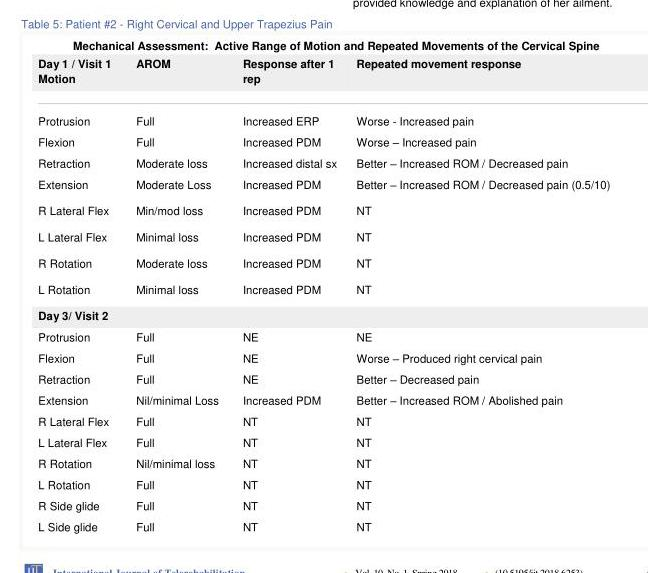table: (37, 36, 609, 533)
table column: (345, 36, 609, 533), (229, 36, 345, 533), (122, 36, 229, 533), (37, 36, 122, 533)
table column header: (37, 36, 609, 98)
table projected row header: (37, 301, 609, 325)
table row: (37, 53, 609, 98), (37, 98, 609, 130), (37, 222, 609, 249), (37, 196, 609, 222), (37, 249, 609, 275), (37, 275, 609, 301), (37, 172, 609, 196), (37, 301, 609, 325), (37, 409, 609, 431), (37, 130, 609, 151), (37, 151, 609, 172), (37, 325, 609, 346), (37, 346, 609, 367), (37, 367, 609, 388), (37, 388, 609, 409), (37, 431, 609, 452), (37, 452, 609, 473), (37, 473, 609, 494), (37, 494, 609, 515), (37, 515, 609, 533), (37, 36, 609, 53)
table spanning cell: (37, 36, 609, 53)
